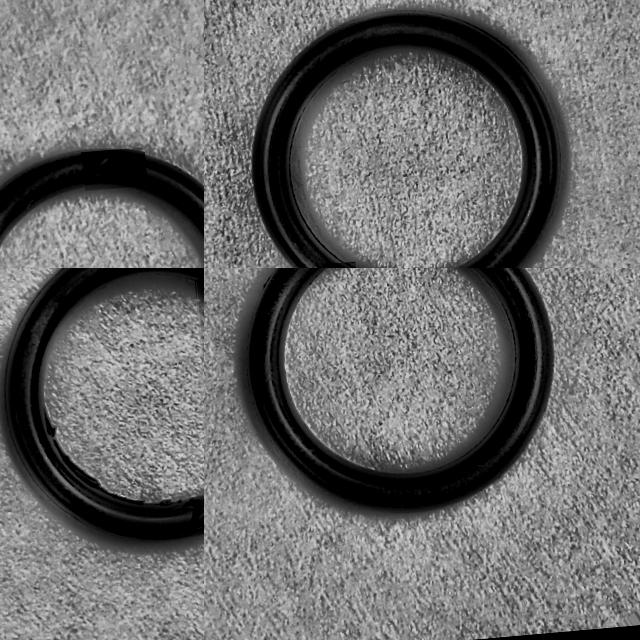切割缺陷: (83, 151, 147, 186), (169, 496, 204, 528)
裂纹: (43, 401, 144, 503), (157, 497, 182, 504)
